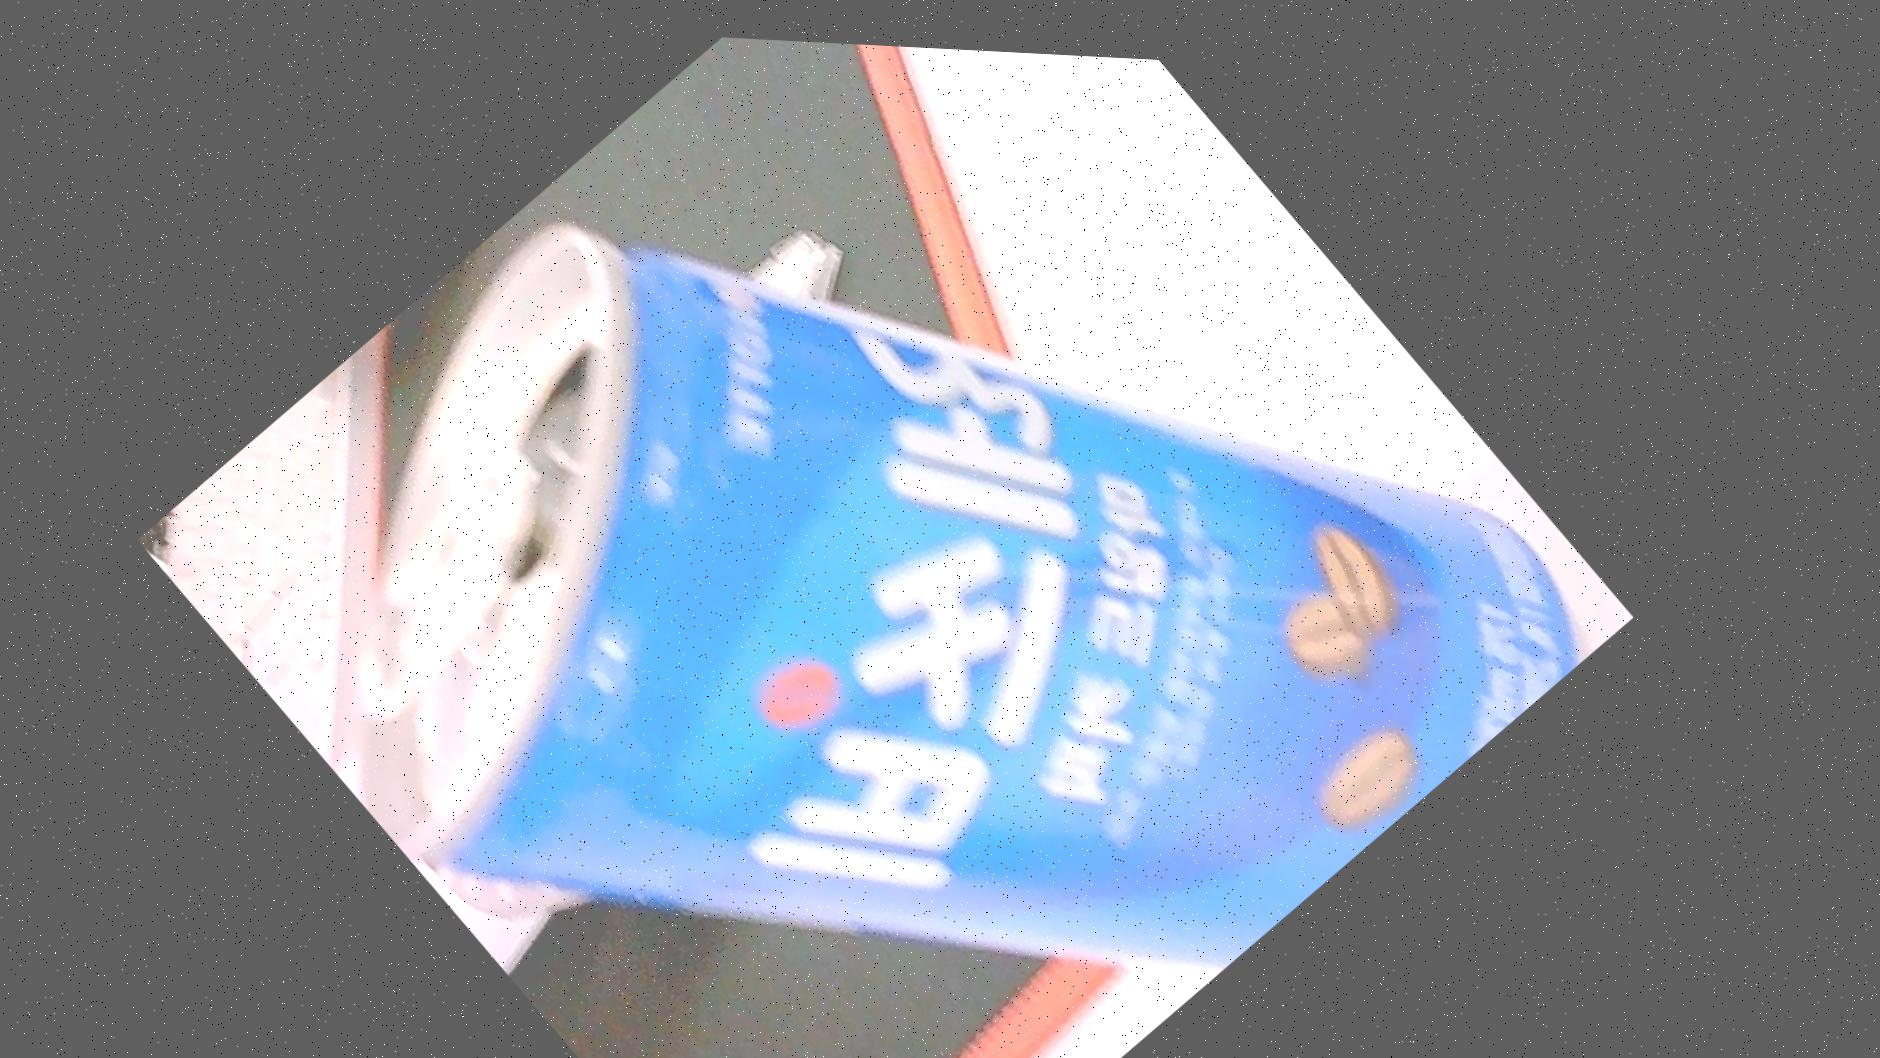letsbe: (123, 9, 1668, 1058)
